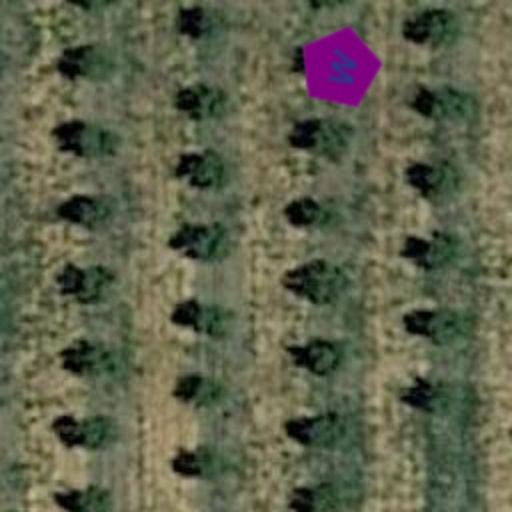pentagon: (288, 16, 392, 120)
